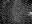person: (27, 9, 31, 16)
